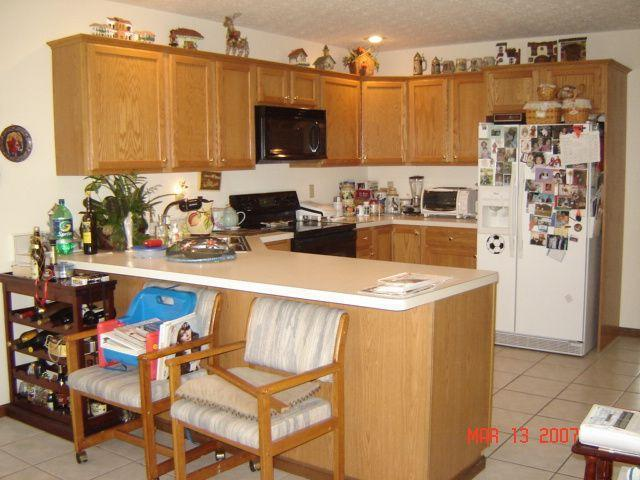Electrodomestico: (483, 123, 590, 354)
